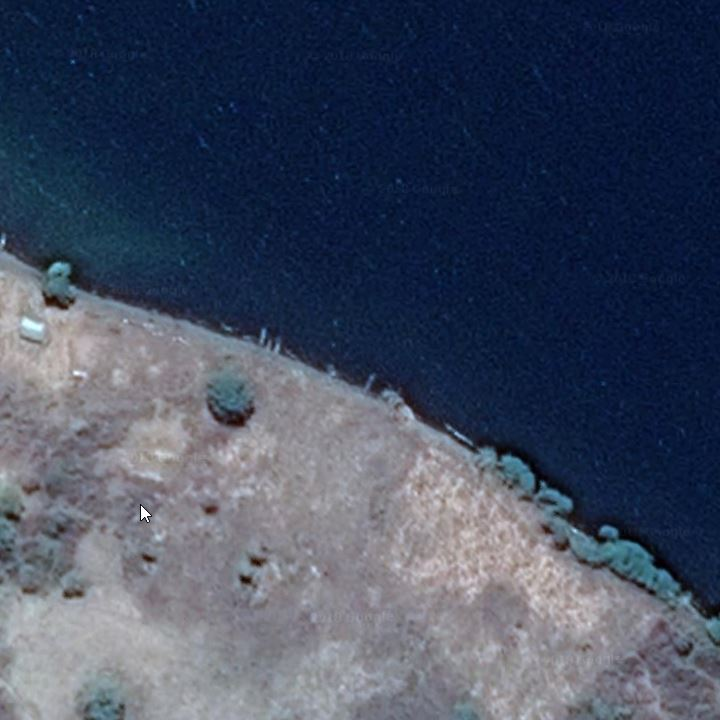boat: (362, 365, 378, 400)
